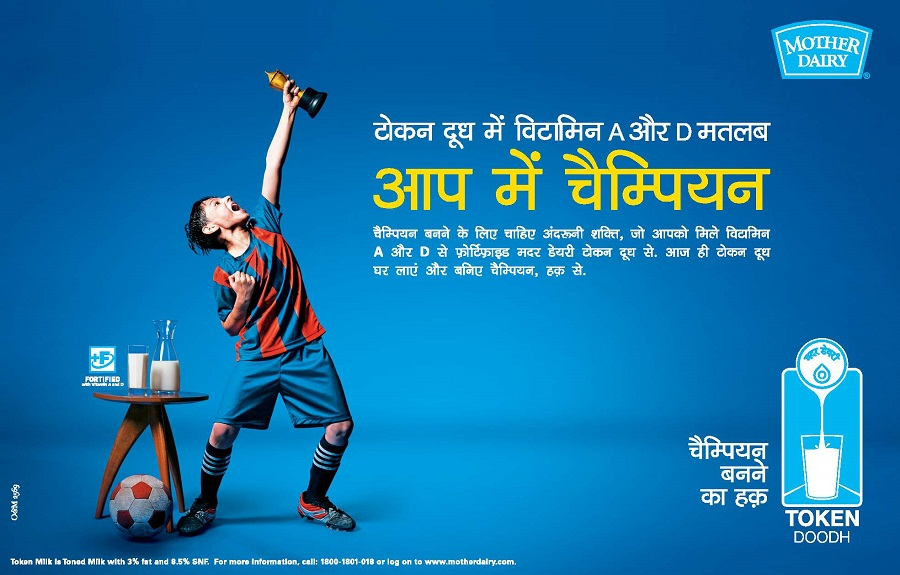Mother_Dairy: (762, 15, 877, 94)
